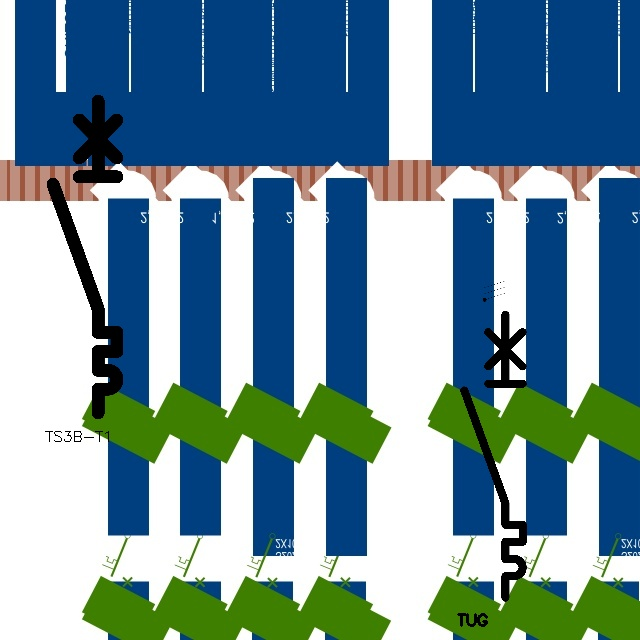interruptor_termomagnetico: (45, 93, 125, 421), (457, 307, 530, 604)
